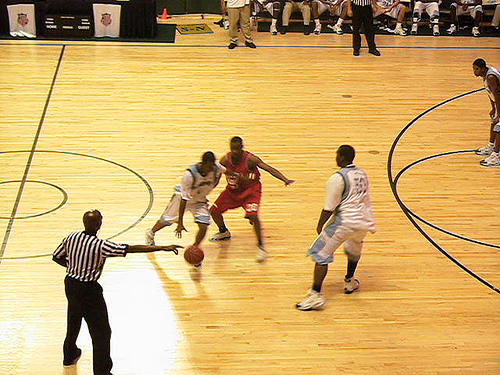basketball: (183, 247, 206, 265)
